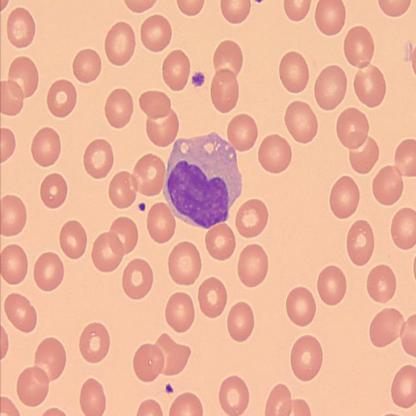Atypical lymphocyte: (162, 129, 244, 228)
